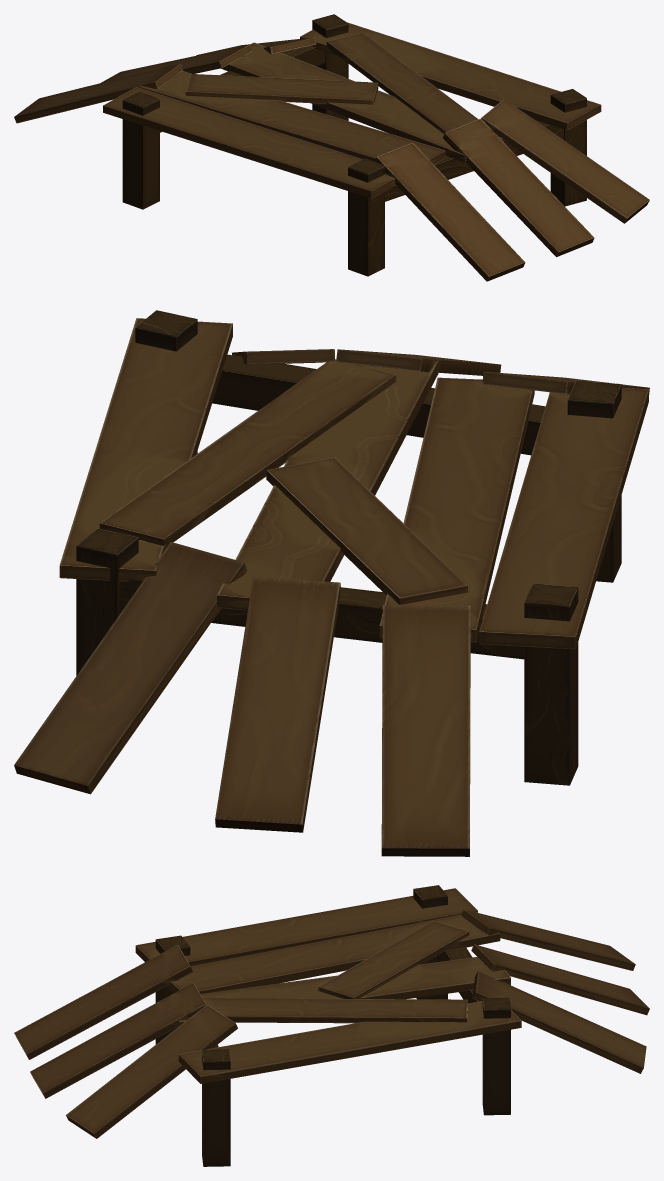
The model's file is SmallWoodBridge.fbx.
3 views of the same model, one above another, from view 1: azimuth 30°, elevation 25°; view 2: azimuth 150°, elevation 25°; view 3: azimuth 270°, elevation 25° (orthographic). The views are drawn at different scales.
Visible parts, largest first — view 1: Boards_LOW, BoardWalkSupport_LOW; view 2: Boards_LOW, BoardWalkSupport_LOW; view 3: Boards_LOW, BoardWalkSupport_LOW.
Part boxes in pixels (left/top/right/bottom): Boards_LOW: left=14, top=22, right=649, bottom=281; BoardWalkSupport_LOW: left=122, top=14, right=586, bottom=276; Boards_LOW: left=14, top=318, right=649, bottom=856; BoardWalkSupport_LOW: left=76, top=310, right=621, bottom=785; Boards_LOW: left=14, top=888, right=649, bottom=1138; BoardWalkSupport_LOW: left=155, top=885, right=510, bottom=1166.
Bounding box in the file's own units: 398 × 105 × 547.
Materials: 2 (2 with a texture image).
